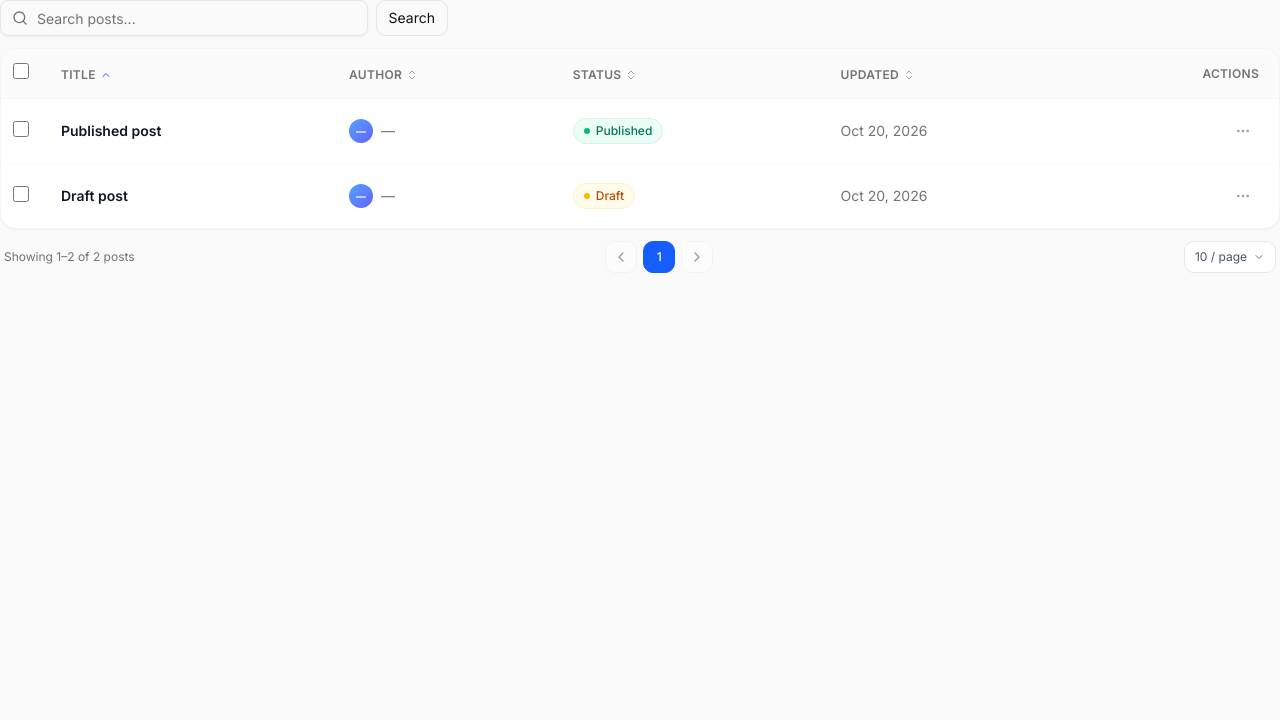
Test case: bulk post selection › reports mixed outcomes, refreshes and keeps only failed posts selected
Click the checkbox named "Select all posts on this page". click: click(21, 71)
box: [13, 63, 29, 79]
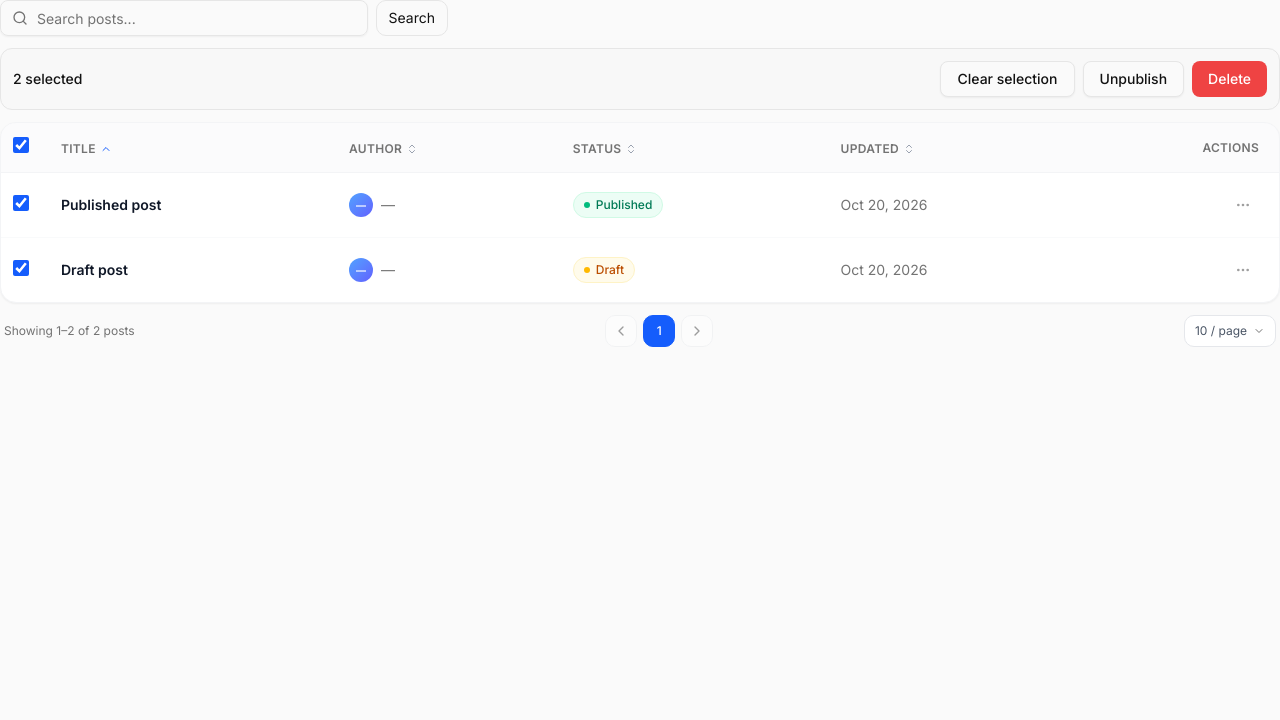
Click the button with aria-label "Delete selected". click: click(1230, 79)
box: [1192, 61, 1267, 97]
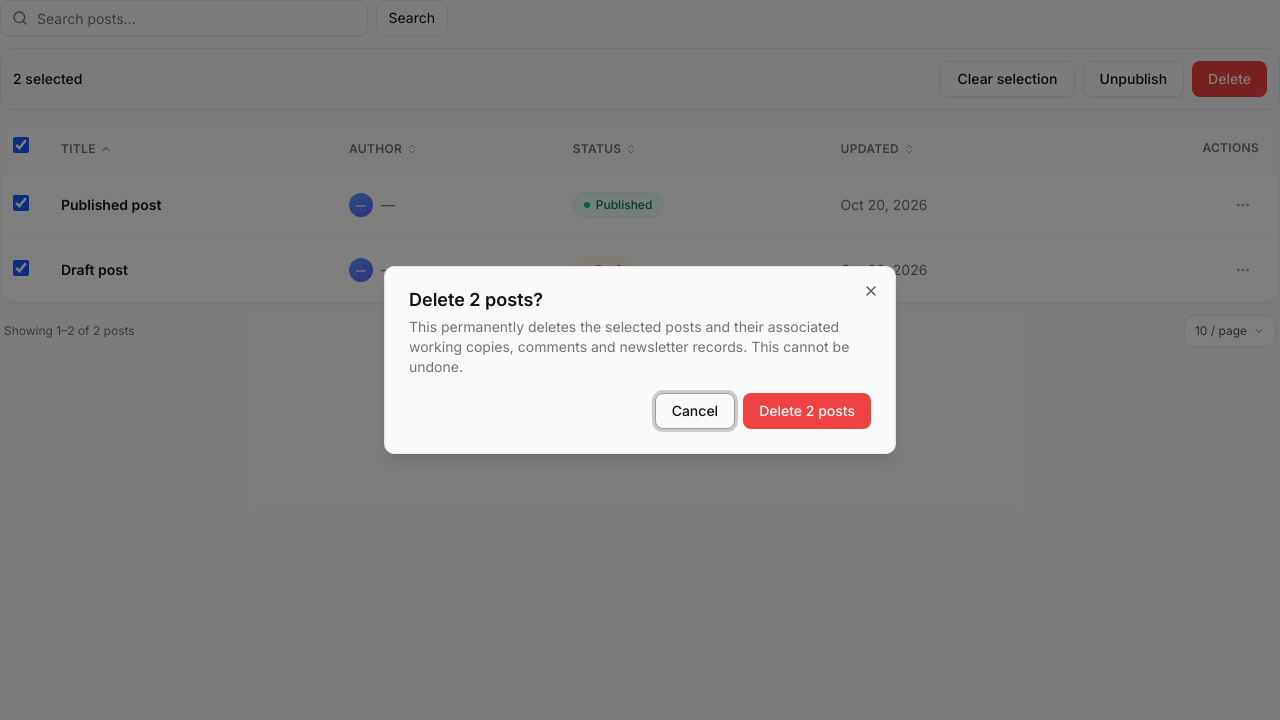
Click the button "Delete 2 posts". click: click(807, 411)
box: [743, 393, 871, 429]
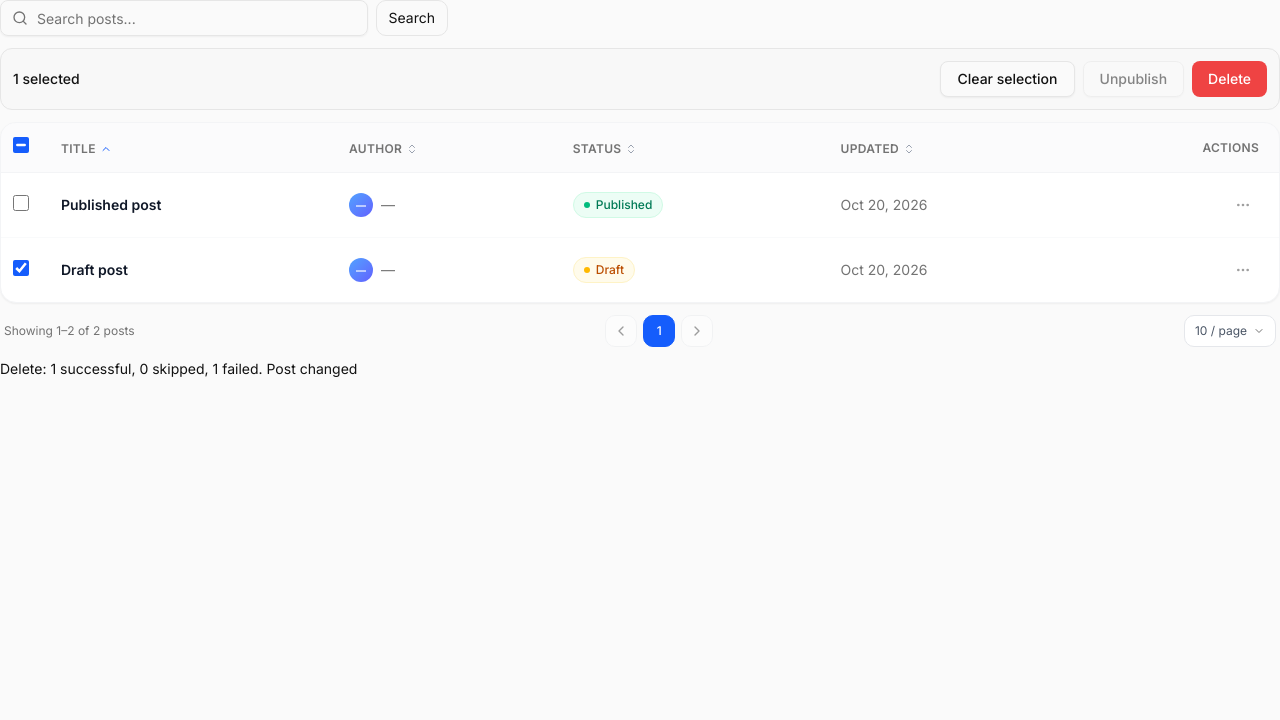
Result: the checkbox named "Select Draft post" is checked at [13, 260, 29, 276]
Result: the checkbox named "Select Published post" is not checked at [13, 194, 29, 210]
Result: the text "Delete: 1 successful, 0 skipped, 1 failed. Post changed" is shown at [0, 360, 357, 377]
